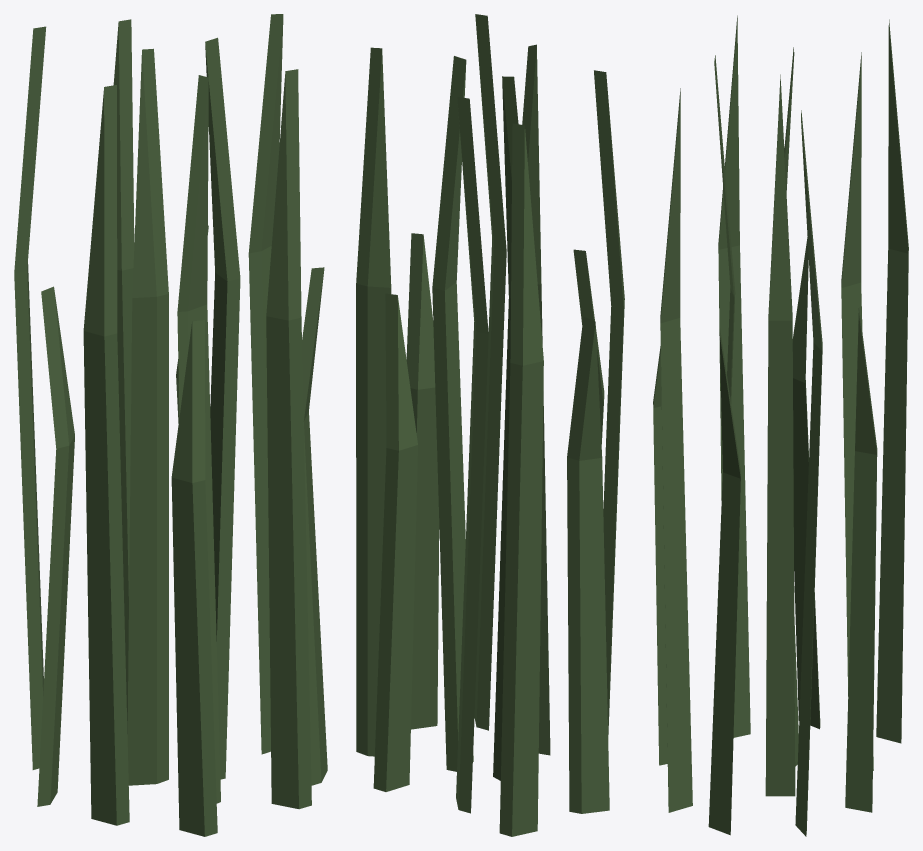
File: grass_1.glb
3 renders of one model, left to right at view 1: azimuth 30°, elevation 25°; view 2: azimuth 150°, elevation 25°; view 3: azimuth 270°, elevation 25°, orthographic. The views are drawn at different scales.
Visible parts, largest first — view 1: grass; view 2: grass; view 3: grass.
Boxes of the visible parts, x1,y1,x2,y2 form: grass: (14,14,327,836); grass: (356,14,624,836); grass: (653,15,908,836).
Size of the model in its own units: 0.1869 by 0.5064 by 0.1636.
1 material, 1 textured.
